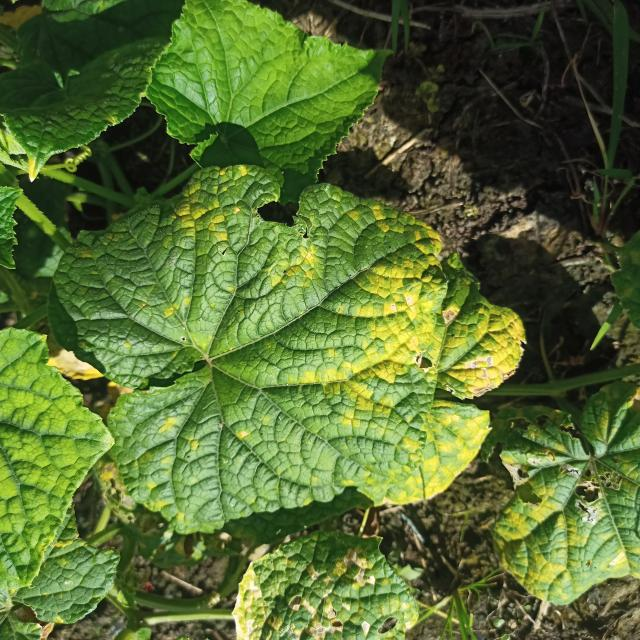disease_cucumber: (303, 184, 524, 516), (157, 163, 331, 292)
